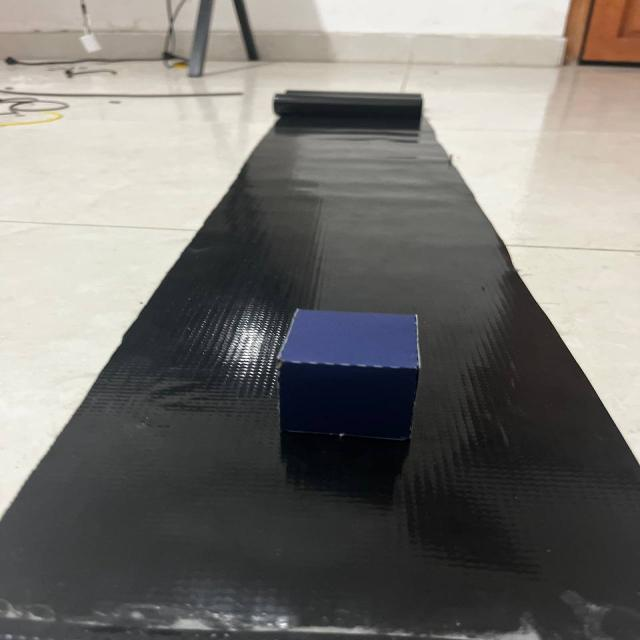Azul: (256, 291, 450, 466)
